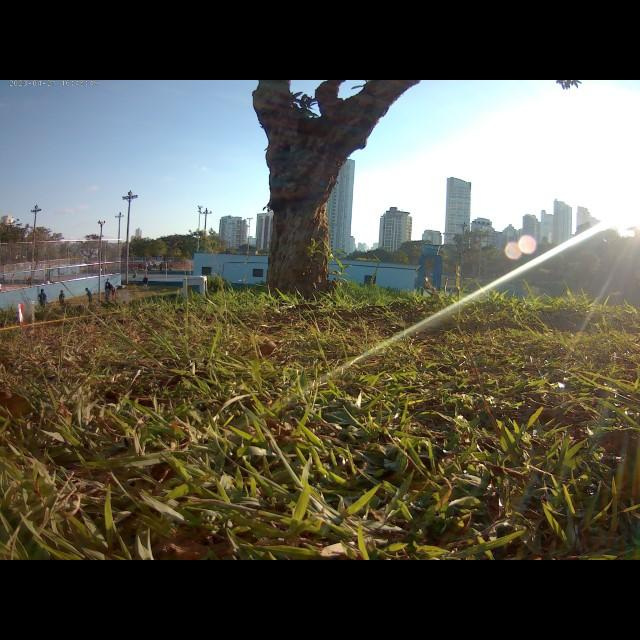arvore: (241, 80, 424, 313)
